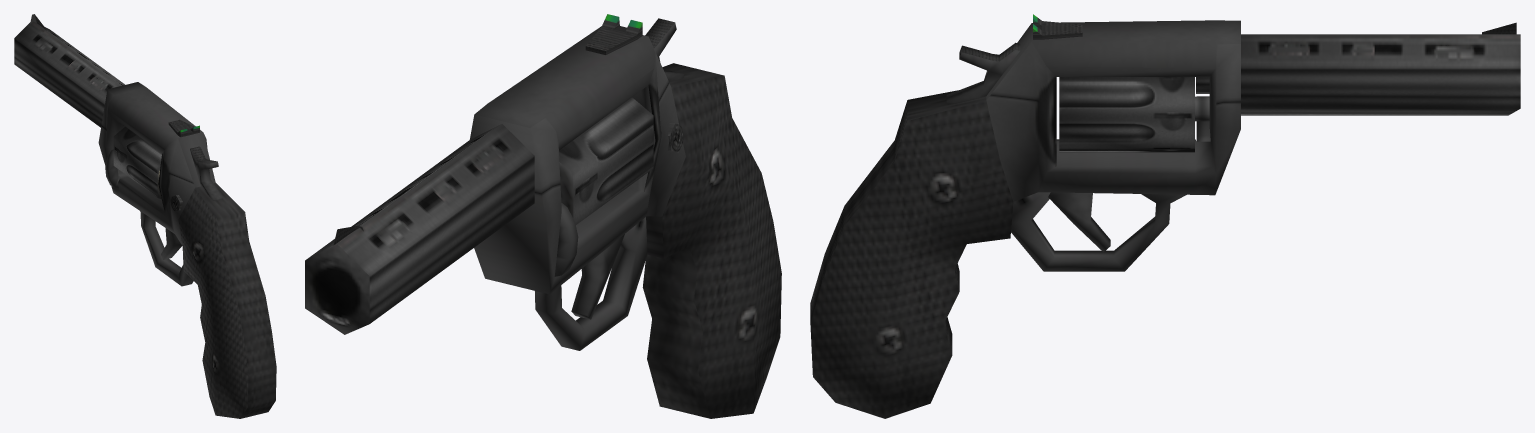
The model's file is Revolver_glb.glb.
3 views of the same model, side by side, from view 1: azimuth 30°, elevation 25°; view 2: azimuth 150°, elevation 25°; view 3: azimuth 270°, elevation 25° (orthographic). The views are drawn at different scales.
Visible parts, largest first — view 1: Revolver, Barrel, Cylinder, Trigger Guard, Hammer, Trigger, BackSight, CylinderHandle; view 2: Revolver, Barrel, Cylinder, Trigger Guard, Trigger, BackSight, CylinderHandle, Hammer; view 3: Revolver, Barrel, Cylinder, Trigger Guard, Hammer, Trigger, BackSight, CylinderHandle.
Part boxes in pixels (x1,y1,x2,y2): Revolver: [98, 82, 276, 418]; Barrel: [14, 21, 125, 127]; Cylinder: [113, 126, 161, 199]; Trigger Guard: [140, 211, 193, 286]; Hammer: [190, 146, 222, 200]; Trigger: [161, 228, 181, 259]; BackSight: [168, 119, 199, 137]; CylinderHandle: [105, 149, 119, 188]; Revolver: [469, 26, 781, 418]; Barrel: [305, 124, 534, 334]; Cylinder: [559, 97, 653, 224]; Trigger Guard: [535, 217, 647, 350]; Trigger: [571, 234, 624, 319]; BackSight: [585, 14, 642, 54]; CylinderHandle: [554, 203, 578, 276]; Hammer: [645, 18, 684, 81]; Revolver: [810, 20, 1240, 418]; Barrel: [1196, 34, 1520, 115]; Cylinder: [1059, 77, 1194, 152]; Trigger Guard: [1011, 192, 1186, 271]; Hammer: [946, 42, 1020, 104]; Trigger: [1048, 192, 1110, 252]; BackSight: [1033, 14, 1082, 39]; CylinderHandle: [1195, 96, 1210, 141].
Bounding box in the file's own units: 0.4761 × 2.15 × 3.64.
Materials: 1 (1 with a texture image).
